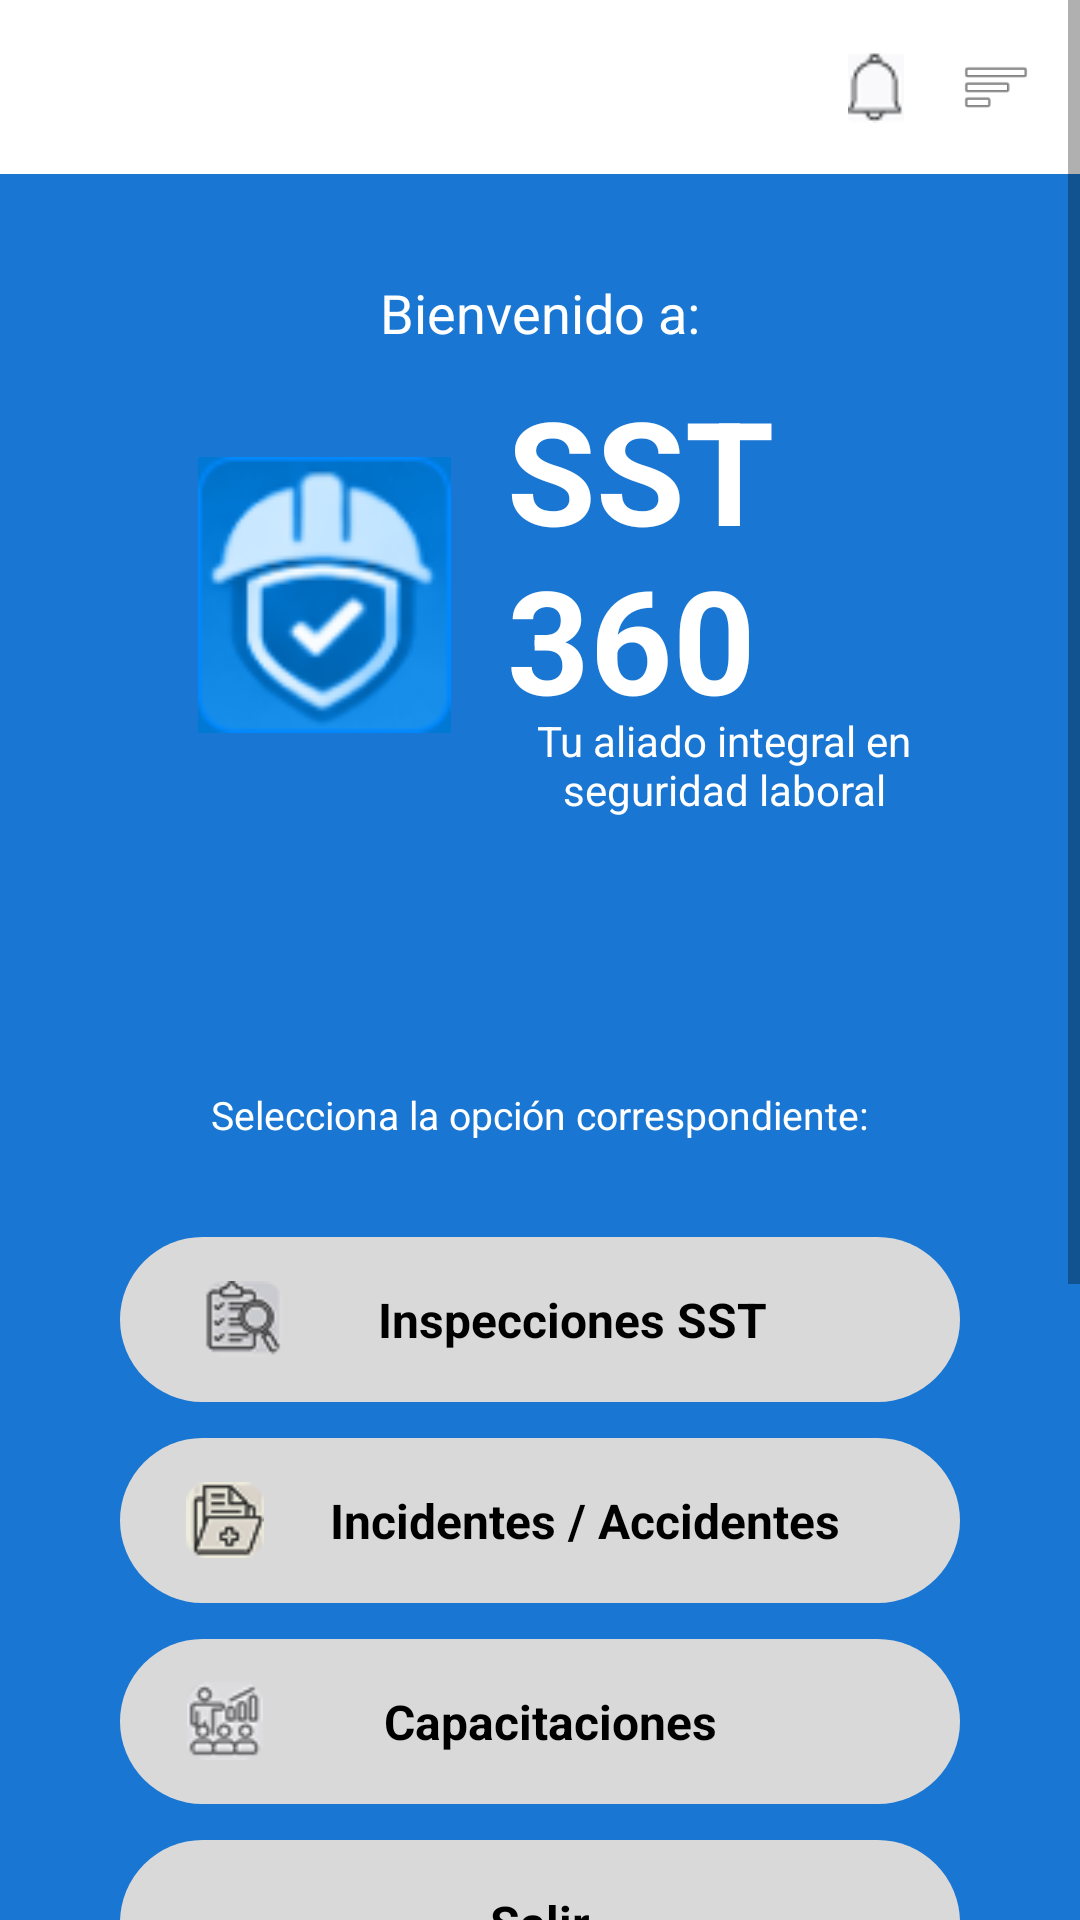

Named icons in this screenshot (1080px×1920px) and their bounding boxes, (x1, y1, x2, y2):
campana not: (848, 53, 902, 121)
sort by size: (965, 67, 1027, 108)
